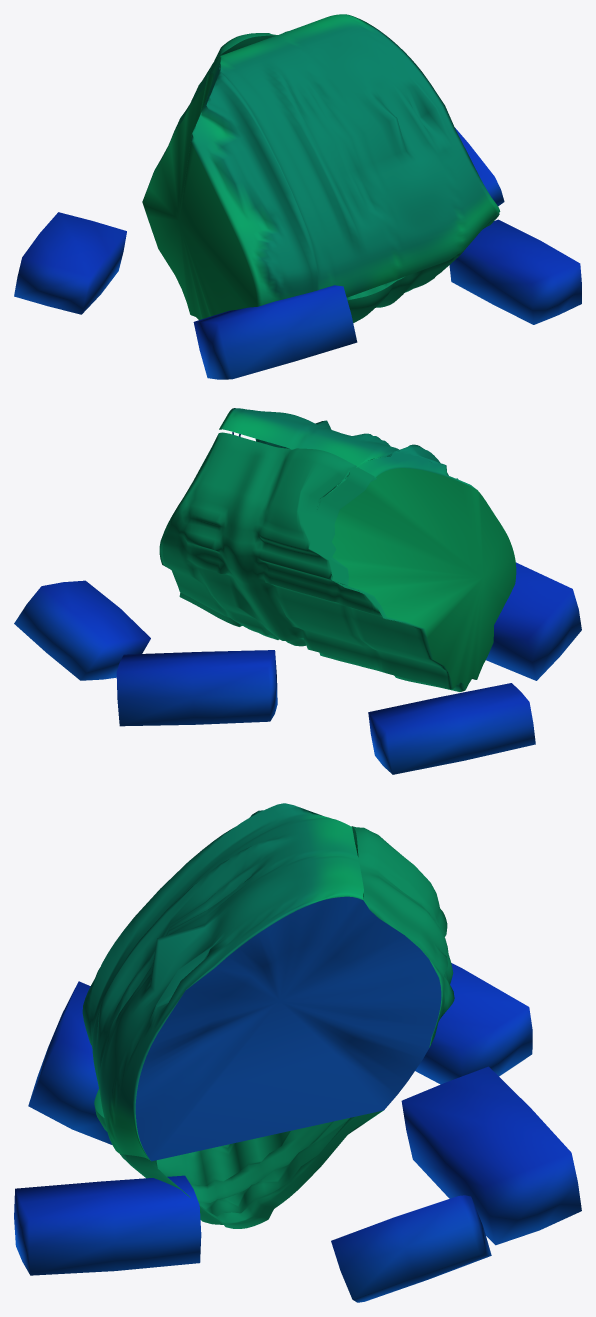
File: watcher_head_fallen.glb
3 renders of one model, top to bottom at view 1: azimuth 30°, elevation 25°; view 2: azimuth 150°, elevation 25°; view 3: azimuth 270°, elevation 25°, orthographic. The views are drawn at different scales.
Visible parts, largest first — view 1: watcher_head_fallen; view 2: watcher_head_fallen; view 3: watcher_head_fallen.
Part boxes in pixels (x1,y1,x2,y2): watcher_head_fallen: (14,14,581,379); watcher_head_fallen: (14,408,581,774); watcher_head_fallen: (14,803,581,1302).
Size of what is drawn, in the model's own units: 4.08 by 2.17 by 3.18.
